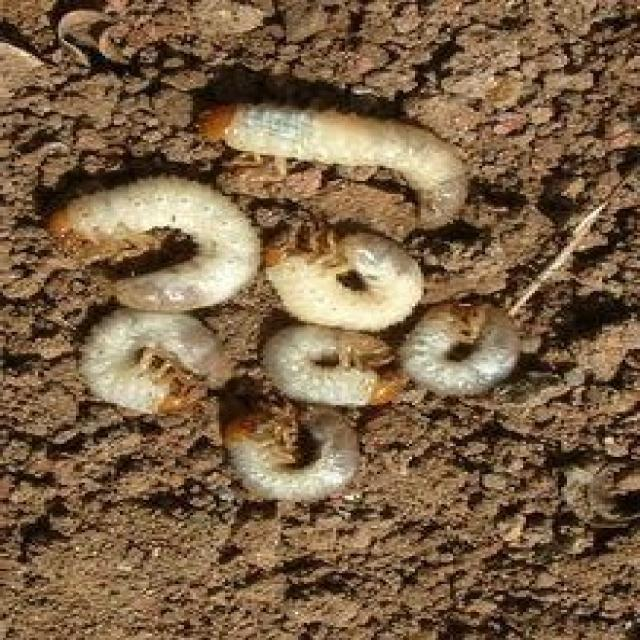grub: (189, 104, 479, 234), (67, 182, 263, 316), (74, 311, 232, 441), (264, 222, 434, 336), (213, 410, 362, 507), (397, 290, 523, 402), (264, 322, 387, 408)
